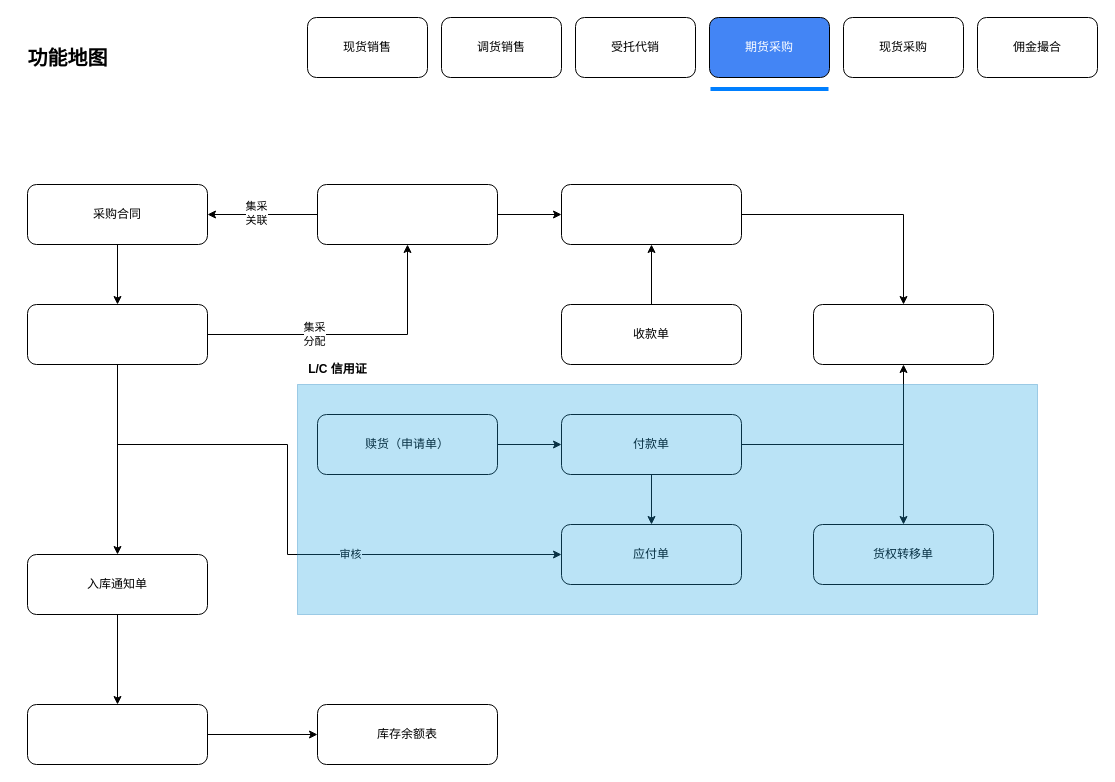
Image size: 1115x782. Some labels were removed from this diagram. Each missing label, with the centre of its shape:
"核销单" belongs at [903,334].
"货运提单" belongs at [117,334].
"购销合同" belongs at [407,214].
"采购入库单" belongs at [117,734].
"（集采）应收单" belongs at [651,214].
